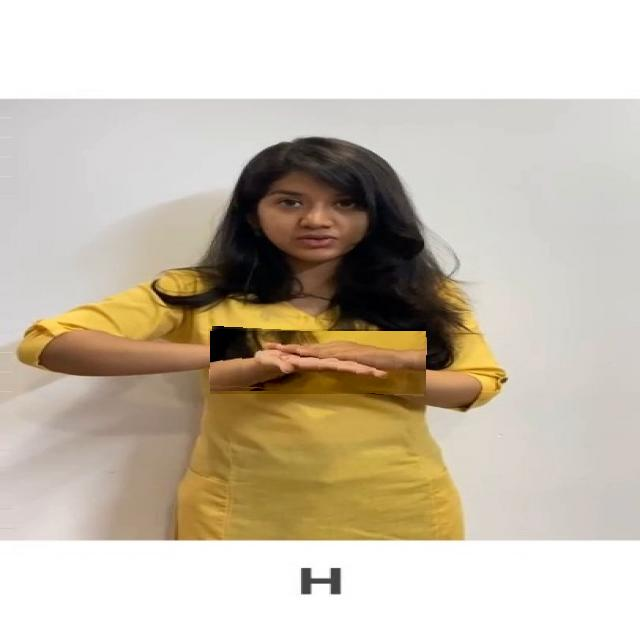H: (210, 329, 426, 394)
